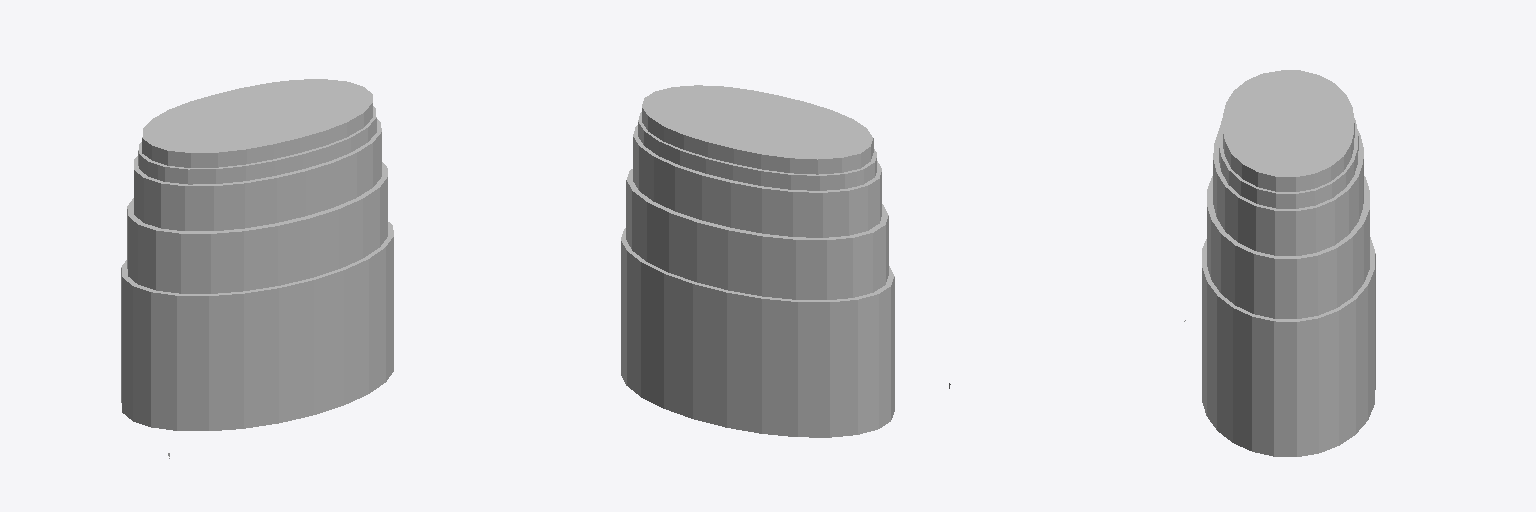
File: UMN no shading.obj
The picture shows the model from 3 angles: view 1: azimuth 30°, elevation 25°; view 2: azimuth 150°, elevation 25°; view 3: azimuth 270°, elevation 25°; orthographic projection.
Visible parts, largest first — view 1: Mesh259 Space___Thermal_Zone__FL18_LOBBY Model, Mesh162 Space___Thermal_Zone__FL2_LOBBY_1 Model, Mesh22 Space___Thermal_Zone__FL1_LOBBY Model, Mesh18 Space___Thermal_Zone__FL18_LFT Model, Mesh138 Space___Thermal_Zone__FL18_S2 Model, Mesh91 Space___Thermal_Zone__FL18_S3 Model, Mesh177 Space___Thermal_Zone__FL18_S4 Model, Mesh75 Space___Thermal_Zone__FL18_S5 Model, Mesh8 Space___Thermal_Zone__FL18_S1 Model, Mesh141 Space___Thermal_Zone__FL9_S1 Model, Mesh252 Space___Thermal_Zone__FL13_S1 Model, Mesh99 Space___Thermal_Zone__FL13_STAIRS_S Model (+28 smaller); view 2: Mesh259 Space___Thermal_Zone__FL18_LOBBY Model, Mesh162 Space___Thermal_Zone__FL2_LOBBY_1 Model, Mesh22 Space___Thermal_Zone__FL1_LOBBY Model, Mesh18 Space___Thermal_Zone__FL18_LFT Model, Mesh203 Space___Thermal_Zone__FL18_N2 Model, Mesh21 Space___Thermal_Zone__FL18_N4 Model, Mesh342 Space___Thermal_Zone__FL18_N3 Model, Mesh126 Space___Thermal_Zone__FL18_N5 Model, Mesh10 Space___Thermal_Zone__FL18_N1 Model, Mesh298 Space___Thermal_Zone__FL13_N1 Model, Mesh343 Space___Thermal_Zone__FL9_N1 Model, Mesh267 Space___Thermal_Zone__FL17_N1 Model (+28 smaller); view 3: Mesh259 Space___Thermal_Zone__FL18_LOBBY Model, Mesh22 Space___Thermal_Zone__FL1_LOBBY Model, Mesh162 Space___Thermal_Zone__FL2_LOBBY_1 Model, Mesh18 Space___Thermal_Zone__FL18_LFT Model, Mesh294 Space___Thermal_Zone__FL13_SPARE_ROOM Model, Mesh337 Space___Thermal_Zone__FL9_SPARE_ROOM Model, Mesh189 Space___Thermal_Zone__FL18_SPARE_ROOM Model, Mesh213 Space___Thermal_Zone__FL16_SPARE_ROOM Model, Mesh340 Space___Thermal_Zone__FL17_SPARE_ROOM Model, Mesh194 Space___Thermal_Zone__FL18_N6 Model, Mesh146 Space___Thermal_Zone__FL18_S6 Model, Mesh71 Space___Thermal_Zone__FL7_SPARE_ROOM Model (+16 smaller).
Part boxes in pixels (x1,y1,x2,y2): Mesh259 Space___Thermal_Zone__FL18_LOBBY Model: (143,81,372,165); Mesh162 Space___Thermal_Zone__FL2_LOBBY_1 Model: (121,342,393,415); Mesh22 Space___Thermal_Zone__FL1_LOBBY Model: (121,357,393,430); Mesh18 Space___Thermal_Zone__FL18_LFT Model: (142,127,206,163); Mesh138 Space___Thermal_Zone__FL18_S2 Model: (211,137,252,167); Mesh91 Space___Thermal_Zone__FL18_S3 Model: (243,130,288,162); Mesh177 Space___Thermal_Zone__FL18_S4 Model: (274,122,320,155); Mesh75 Space___Thermal_Zone__FL18_S5 Model: (304,114,350,146); Mesh8 Space___Thermal_Zone__FL18_S1 Model: (174,143,213,167); Mesh141 Space___Thermal_Zone__FL9_S1 Model: (216,289,259,310); Mesh252 Space___Thermal_Zone__FL13_S1 Model: (215,227,257,248); Mesh99 Space___Thermal_Zone__FL13_STAIRS_S Model: (175,230,215,248); Mesh259 Space___Thermal_Zone__FL18_LOBBY Model: (642,87,873,172); Mesh162 Space___Thermal_Zone__FL2_LOBBY_1 Model: (621,346,894,422); Mesh22 Space___Thermal_Zone__FL1_LOBBY Model: (621,361,894,437); Mesh18 Space___Thermal_Zone__FL18_LFT Model: (808,130,872,169); Mesh203 Space___Thermal_Zone__FL18_N2 Model: (761,143,804,173); Mesh21 Space___Thermal_Zone__FL18_N4 Model: (694,128,741,161); Mesh342 Space___Thermal_Zone__FL18_N3 Model: (727,136,770,168); Mesh126 Space___Thermal_Zone__FL18_N5 Model: (664,119,709,152); Mesh10 Space___Thermal_Zone__FL18_N1 Model: (801,149,841,174); Mesh298 Space___Thermal_Zone__FL13_N1 Model: (756,233,799,254); Mesh343 Space___Thermal_Zone__FL9_N1 Model: (754,295,798,316); Mesh267 Space___Thermal_Zone__FL17_N1 Model: (801,173,845,190); Mesh259 Space___Thermal_Zone__FL18_LOBBY Model: (1252,73,1324,189); Mesh22 Space___Thermal_Zone__FL1_LOBBY Model: (1202,375,1375,454); Mesh162 Space___Thermal_Zone__FL2_LOBBY_1 Model: (1202,360,1375,439); Mesh18 Space___Thermal_Zone__FL18_LFT Model: (1269,70,1308,93); Mesh294 Space___Thermal_Zone__FL13_SPARE_ROOM Model: (1269,254,1308,273); Mesh337 Space___Thermal_Zone__FL9_SPARE_ROOM Model: (1269,317,1308,336); Mesh189 Space___Thermal_Zone__FL18_SPARE_ROOM Model: (1269,174,1308,191); Mesh213 Space___Thermal_Zone__FL16_SPARE_ROOM Model: (1269,207,1308,225); Mesh340 Space___Thermal_Zone__FL17_SPARE_ROOM Model: (1269,190,1308,208); Mesh194 Space___Thermal_Zone__FL18_N6 Model: (1319,152,1343,186); Mesh146 Space___Thermal_Zone__FL18_S6 Model: (1234,152,1257,186); Mesh71 Space___Thermal_Zone__FL7_SPARE_ROOM Model: (1269,350,1308,366).
Size of the model in its own units: 69721 by 66600 by 42653.